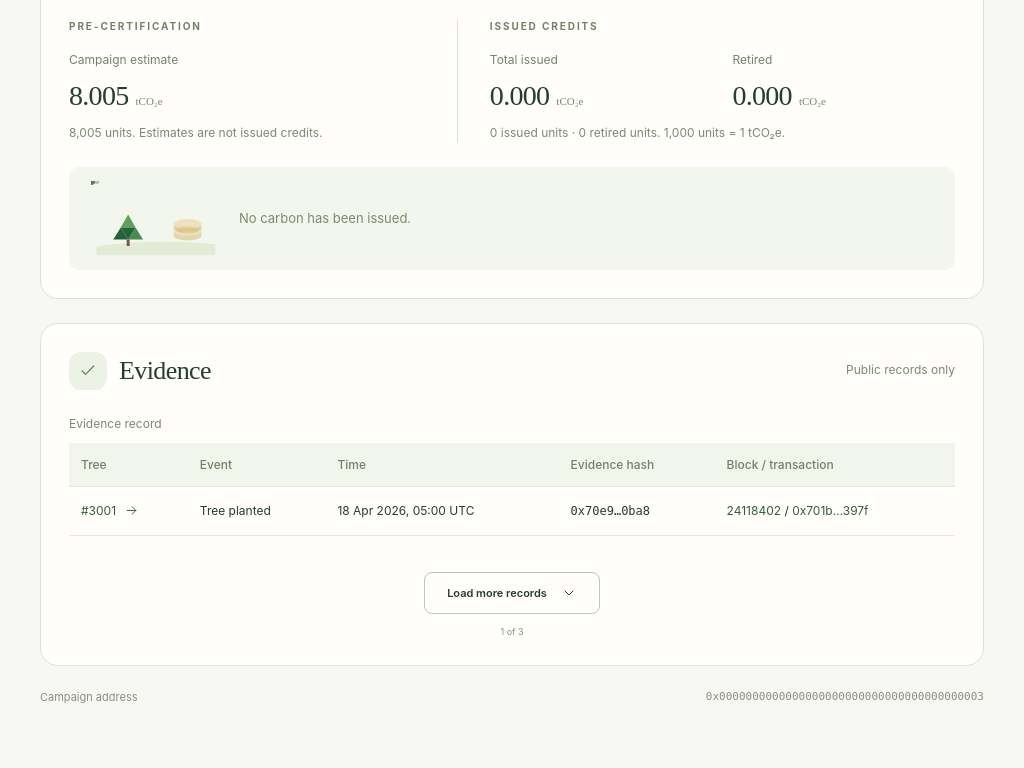
Scenario: S06 evidence paging › a campaign that vanishes while paging is not found
(page scrolled)
Click the button with test id "evidence-more": (512, 593) [424,572,600,614]
(page scrolled)
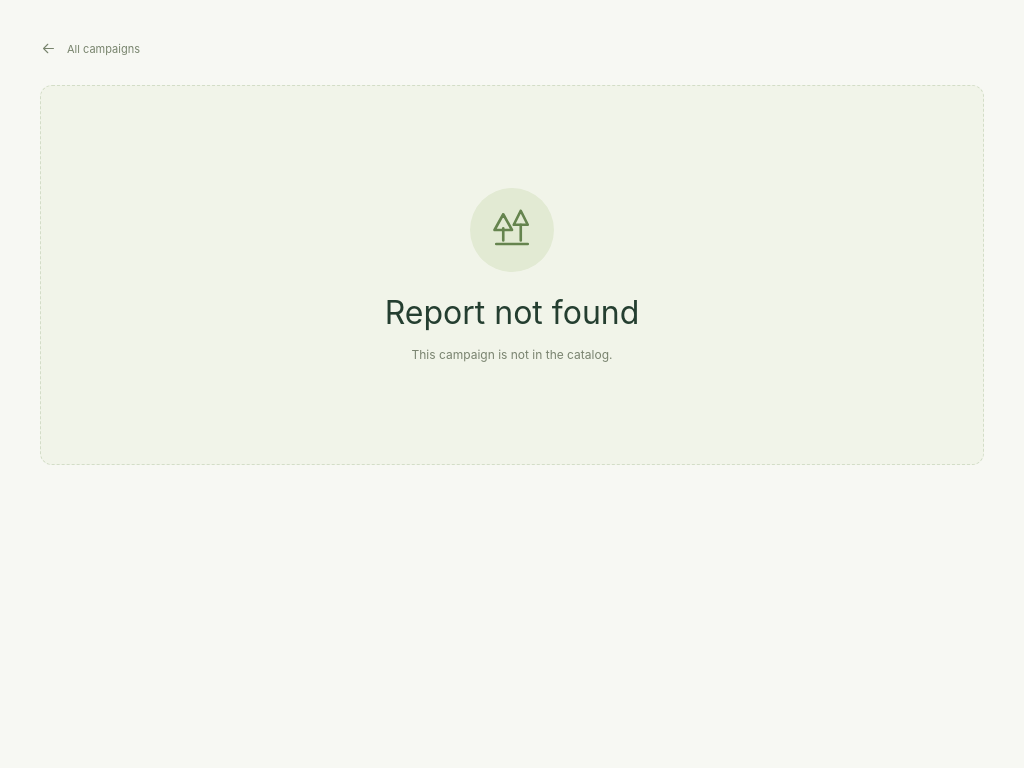
Now the heading "Report not found" is shown, box [385,293,639,332]
